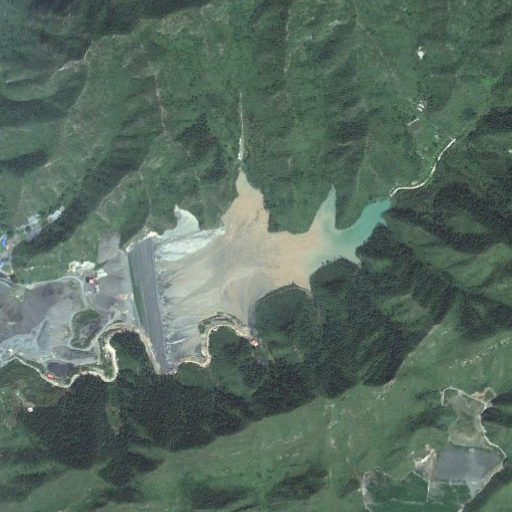tp: (128, 168, 394, 375)
